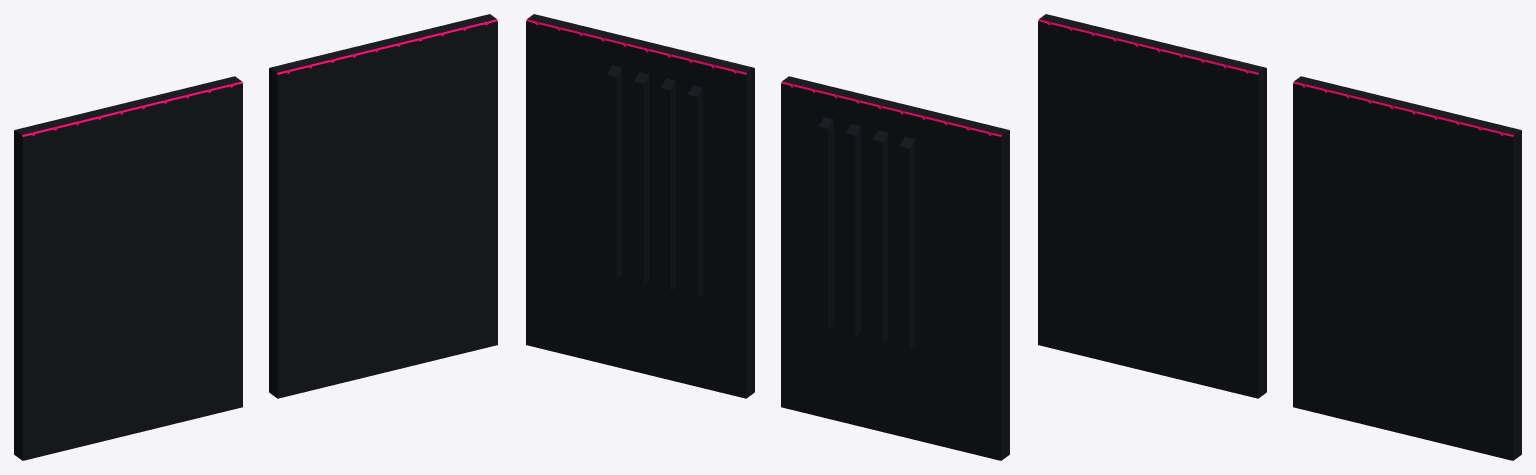
The model's file is test_decor_8.fbx.
3 renders of one model, left to right at view 1: azimuth 30°, elevation 25°; view 2: azimuth 150°, elevation 25°; view 3: azimuth 330°, elevation 25°, orthographic.
Parts seen in each view (by area): view 1: Cube.077; view 2: Cube.077; view 3: Cube.077.
Boxes of the visible parts, x1,y1,x2,y2 form: Cube.077: [14, 14, 497, 460]; Cube.077: [526, 14, 1009, 460]; Cube.077: [1038, 14, 1521, 460].
Bounding box in the file's own units: 5821 × 3809 × 304.
